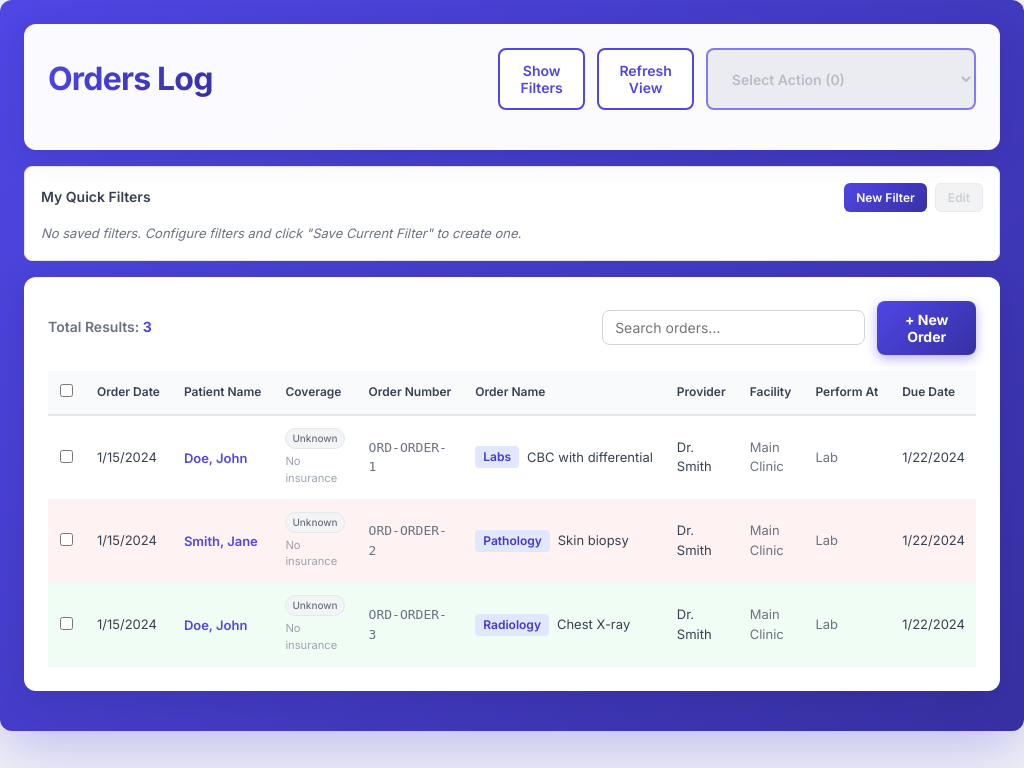
Scenario: OrdersPageEnhanced › searches orders by details
Expected: the text "CBC with differential" is shown, 527,448 -> 653,467
In the field with placeholder "Search orders...": (734, 328) 602,310 -> 865,345, type "biopsy"
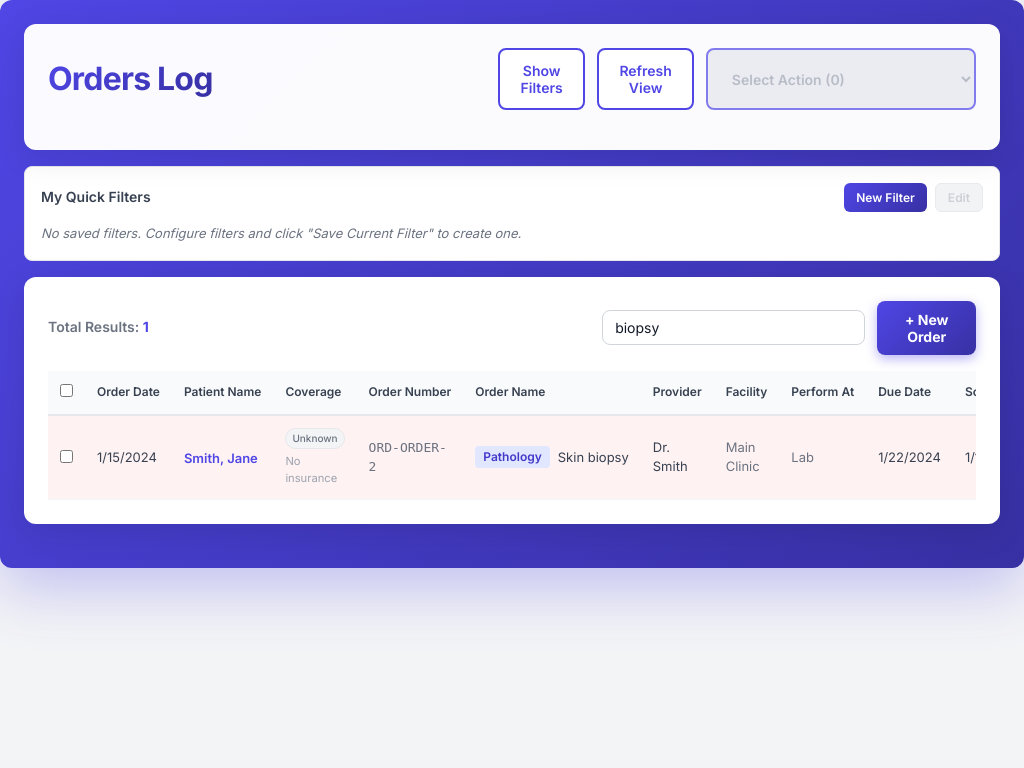
Expected: the text "Skin biopsy" is shown, 558,448 -> 629,467
Now the text "CBC with differential" is gone
